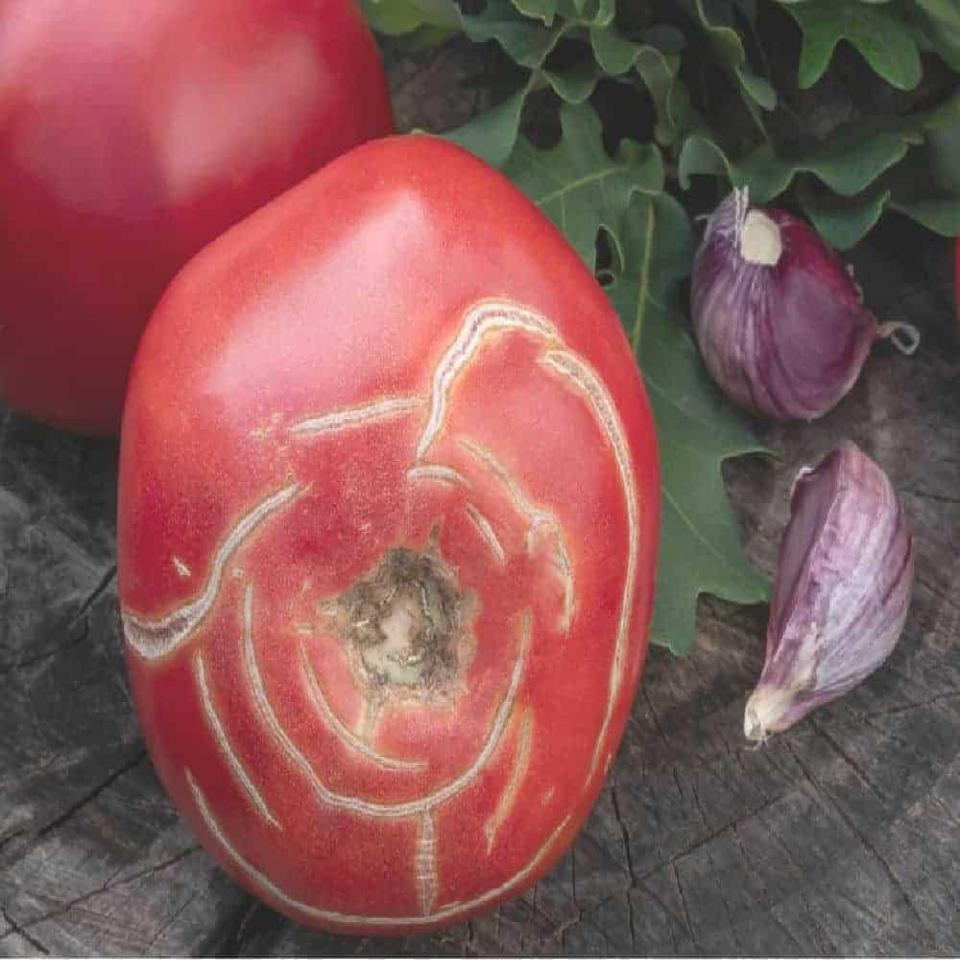Cracking: (122, 450, 562, 926), (396, 244, 640, 810), (243, 364, 456, 462)
